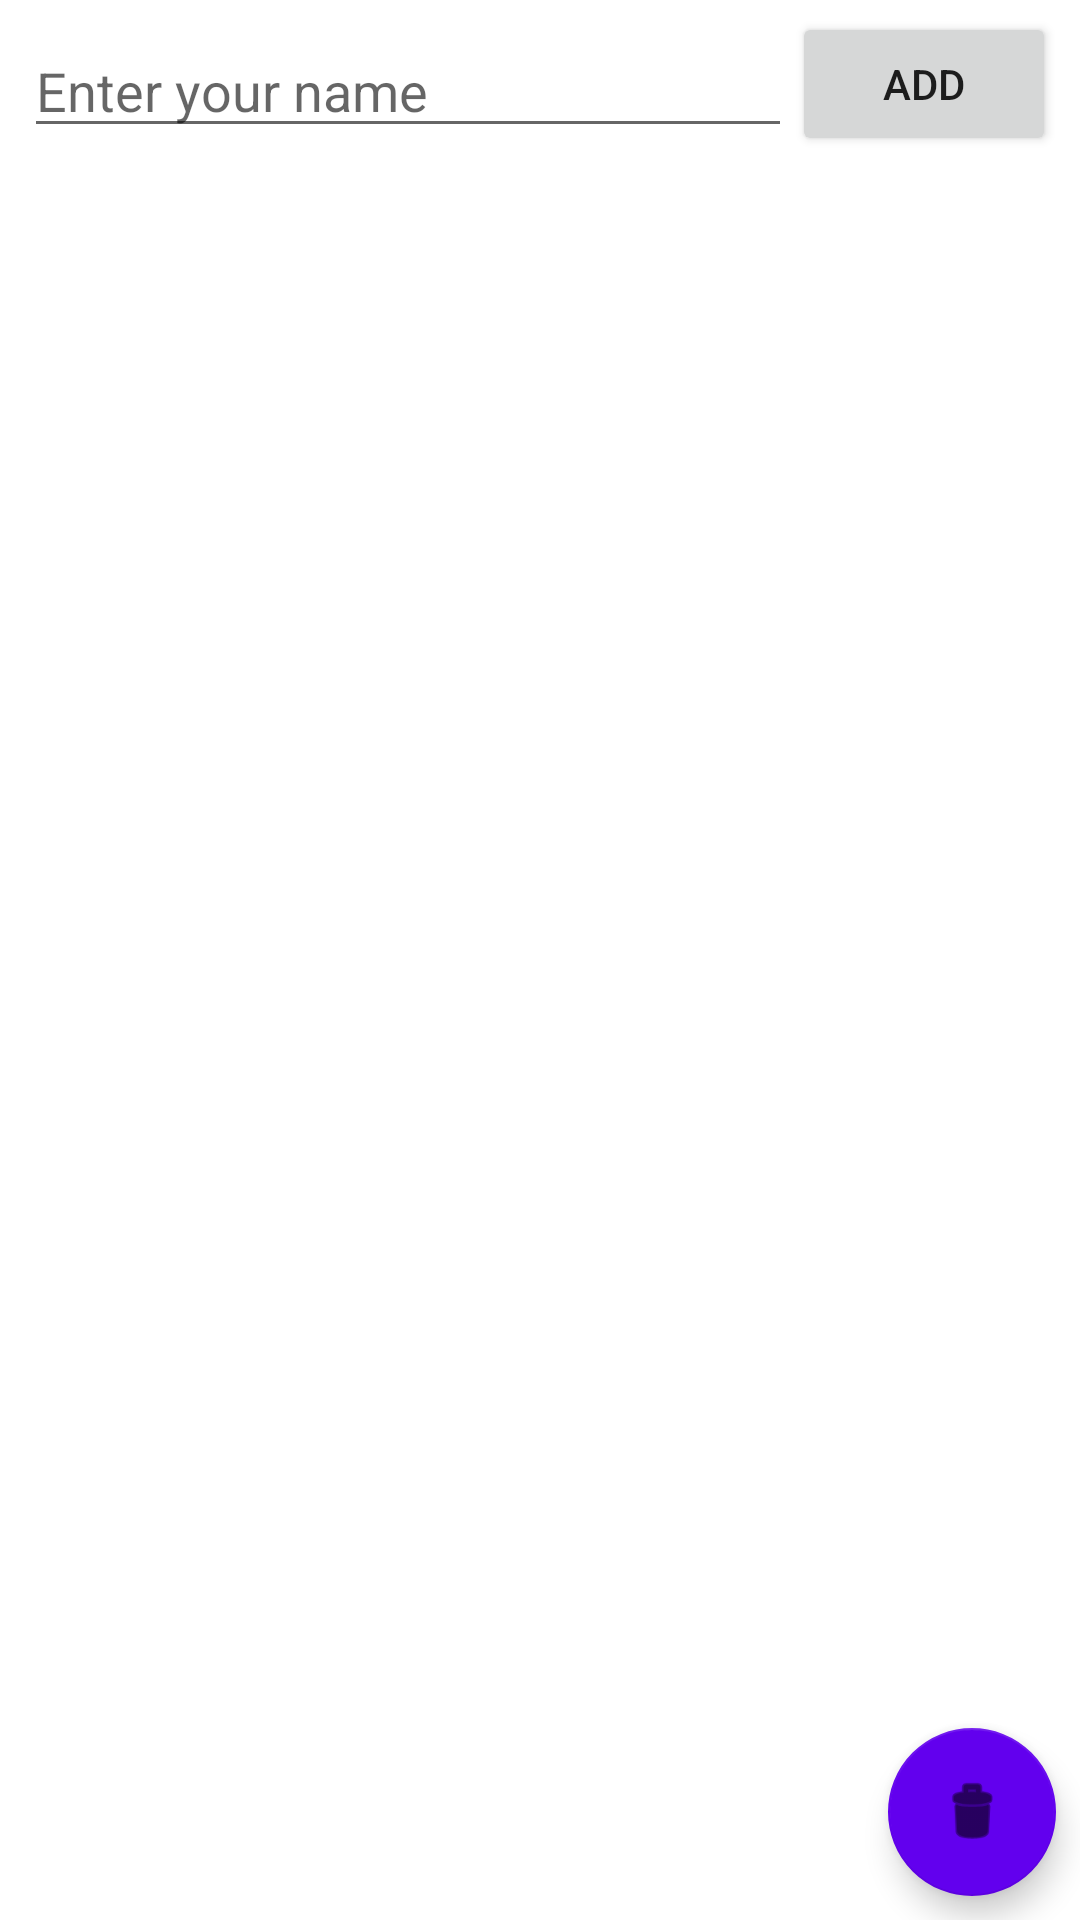

Screen size 1080 x 1920. Icon name, then its box in pixels as {"left": x1, "top": y1, "right": x2, "bottom": y2}:
delete: {"left": 888, "top": 1728, "right": 1056, "bottom": 1896}
